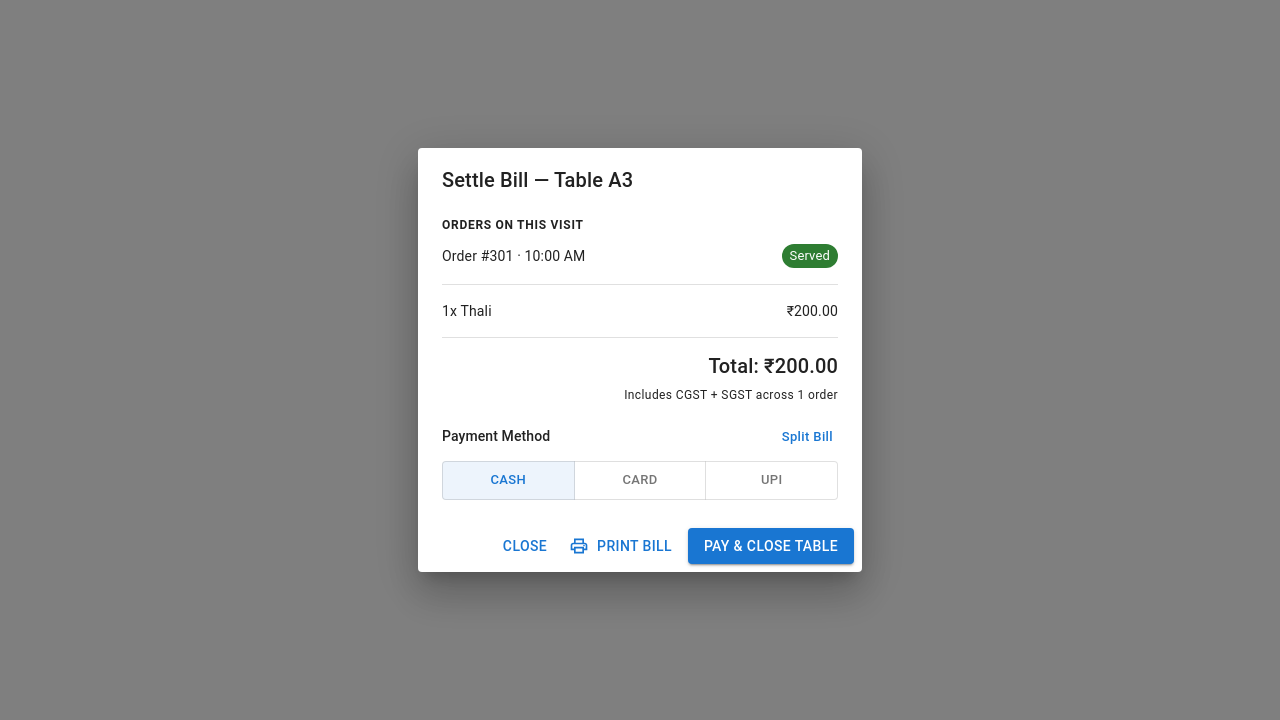
Test case: SettleBillDialog - split bill › starts with two even shares once Split Bill is turned on
This screenshot has width=1280, height=720.
Check: the heading "Total: ₹200.00" is shown, box [709, 354, 838, 378]
Click the button "Split Bill". click: (807, 437)
box: [777, 422, 838, 453]
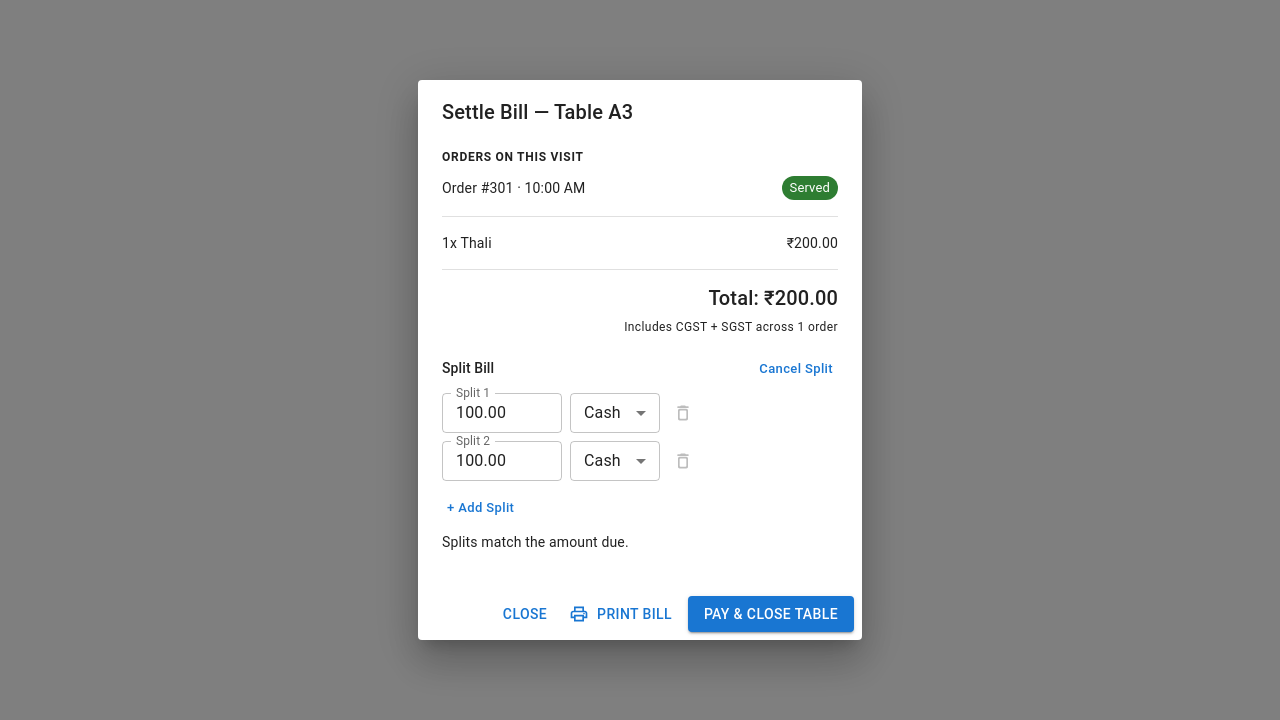
Check: the number field labelled "Split 1" holds "100", box [442, 393, 562, 433]
Check: the number field labelled "Split 2" holds "100", box [442, 441, 562, 481]
Check: the text "Splits match the amount due." is shown, box [442, 534, 629, 550]
